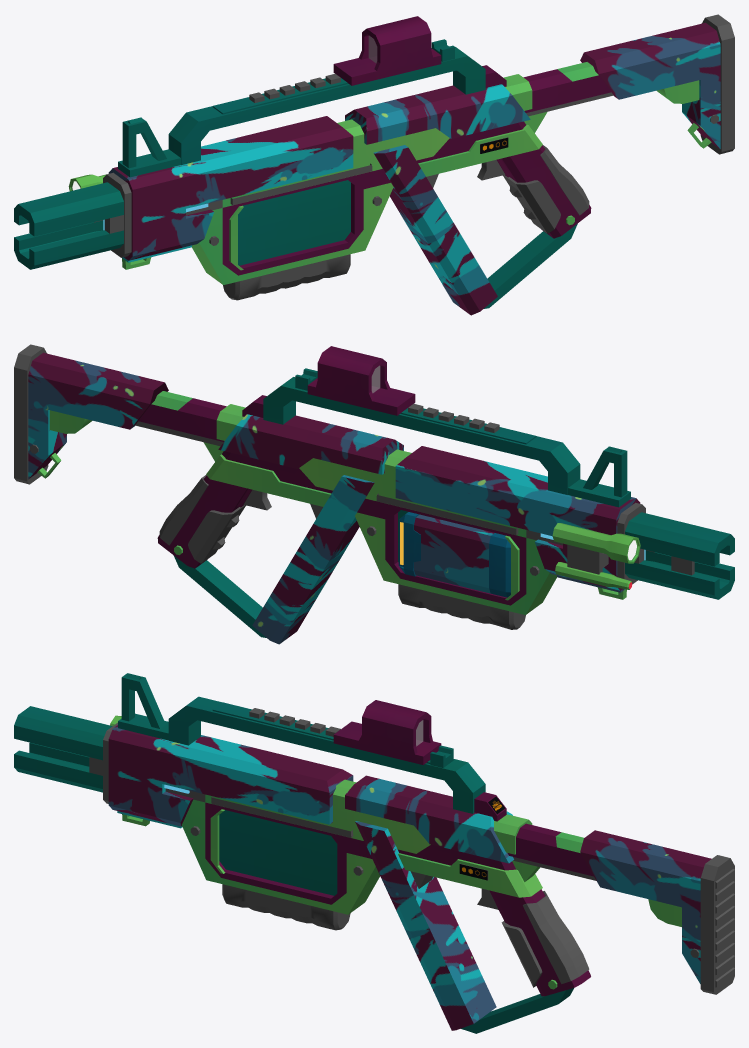
3 views of the same model, one above another, from view 1: azimuth 30°, elevation 25°; view 2: azimuth 150°, elevation 25°; view 3: azimuth 330°, elevation 25° (orthographic).
Visible parts, largest first — view 1: SM_AR01A, SM_HoloA; view 2: SM_AR01A, SM_Mag_M, SM_HoloA, SM_LaserComboL; view 3: SM_AR01A, SM_HoloA.
Part boxes in pixels (x1=…): SM_AR01A: x1=14, y1=14, x2=734, y2=315; SM_HoloA: x1=333, y1=16, x2=441, y2=85; SM_AR01A: x1=14, y1=344, x2=734, y2=644; SM_Mag_M: x1=398, y1=512, x2=510, y2=597; SM_HoloA: x1=307, y1=346, x2=415, y2=415; SM_LaserComboL: x1=552, y1=523, x2=640, y2=589; SM_AR01A: x1=14, y1=673, x2=734, y2=1033; SM_HoloA: x1=333, y1=700, x2=441, y2=764.
Bounding box in the file's own units: 78.1 × 31.78 × 7.51.
6 materials, 3 textured.
